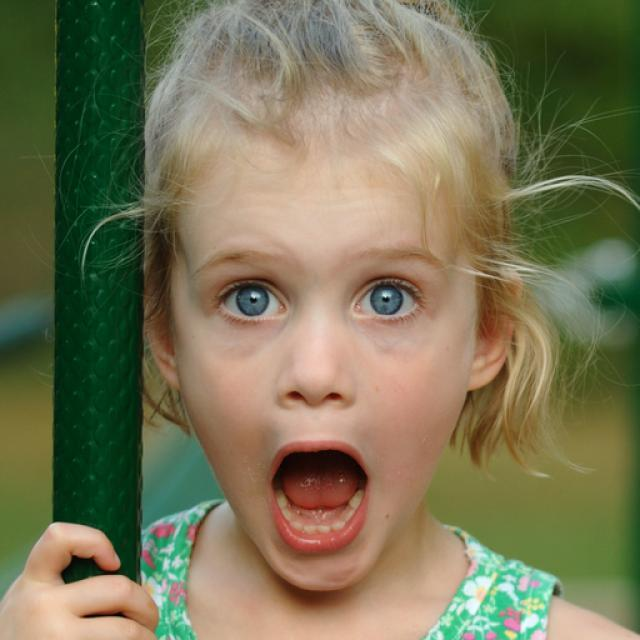surprise: (174, 96, 472, 595)
